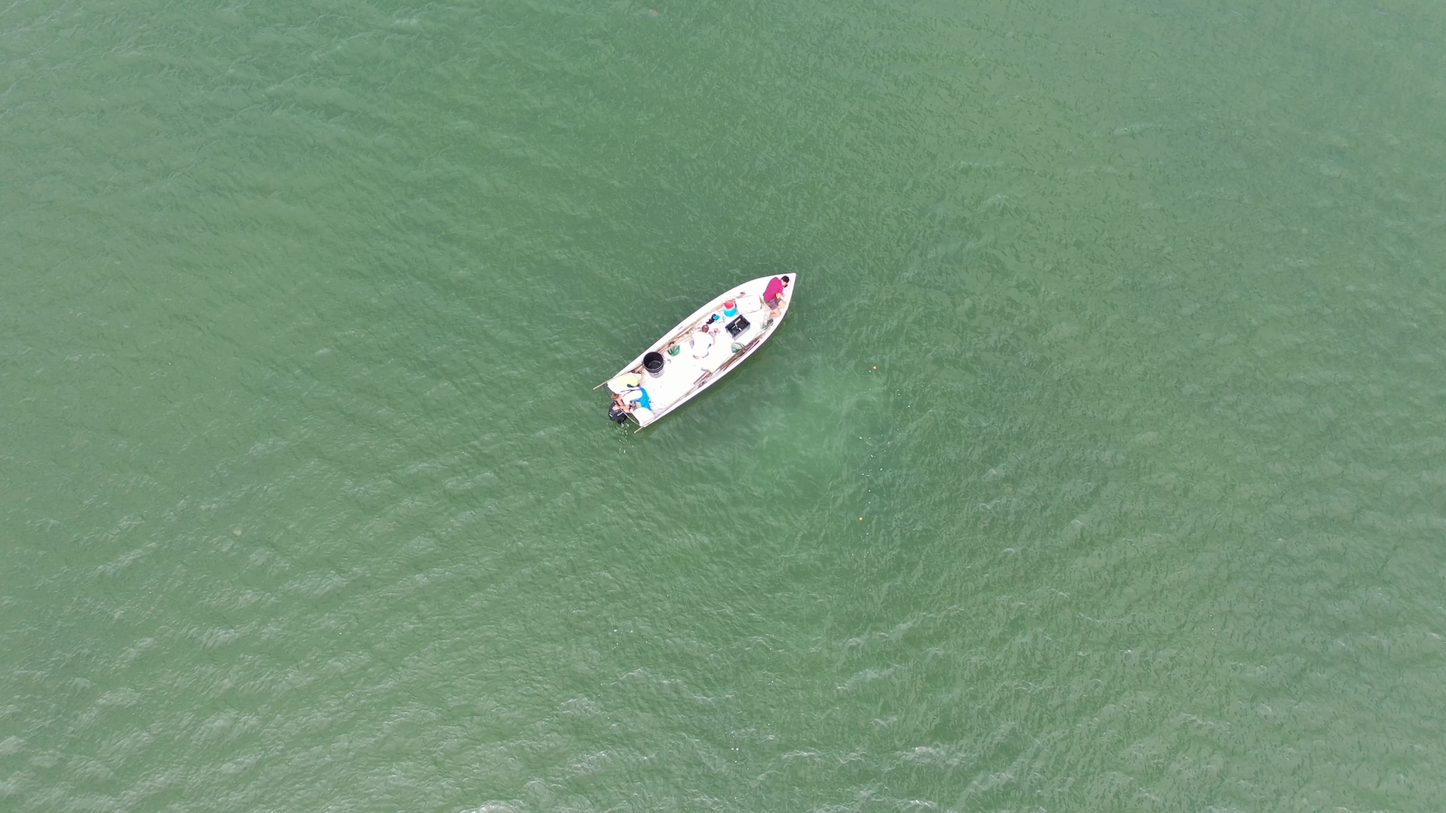meduse: (648, 9, 659, 18), (232, 529, 243, 536)
